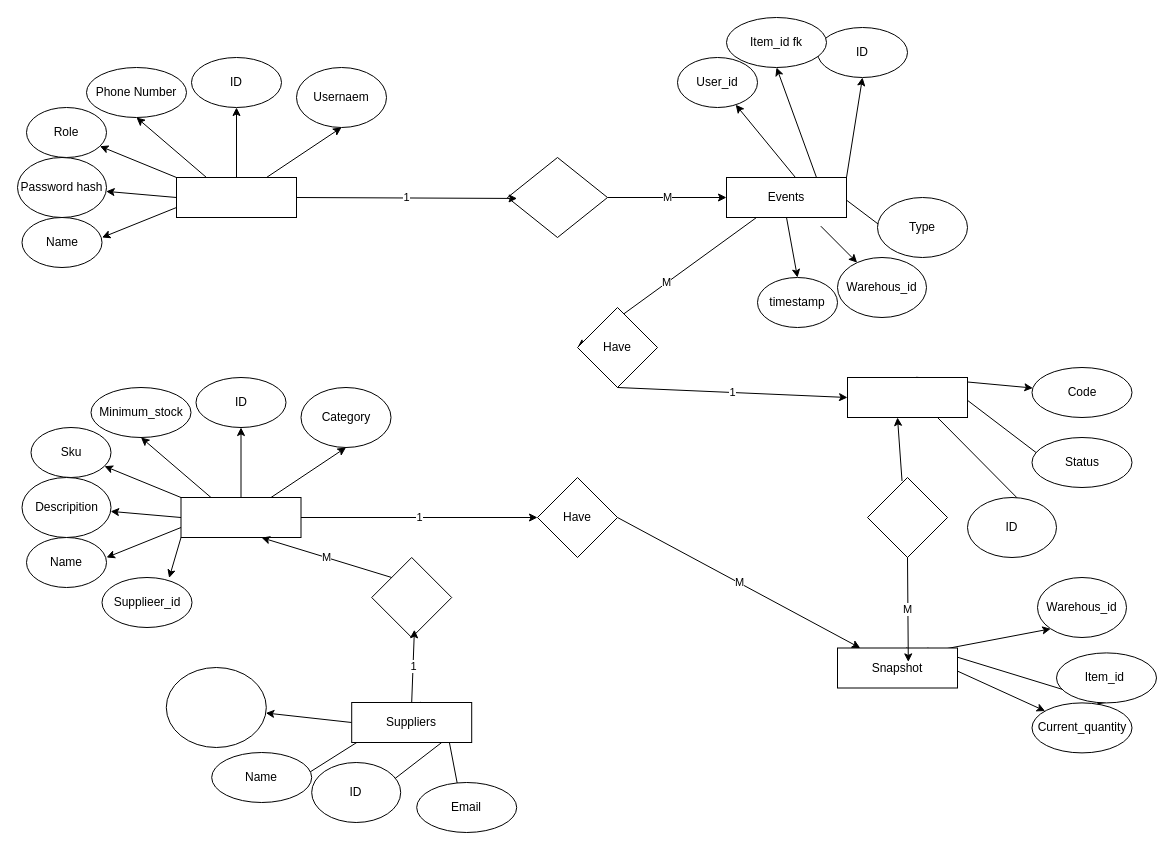
The diagram is 1174 pixels wide and 858 high, and some of its shapes have lost their labels. The box of each missing label's shape, as (x1, y1, x2, y2) in pixels:
Belongs: (866, 476, 948, 558)
creat: (506, 156, 608, 238)
Item: (180, 496, 301, 538)
Phone_number: (165, 666, 266, 748)
Supply: (371, 556, 452, 638)
Users: (176, 176, 296, 218)
Warehous: (846, 376, 968, 418)
